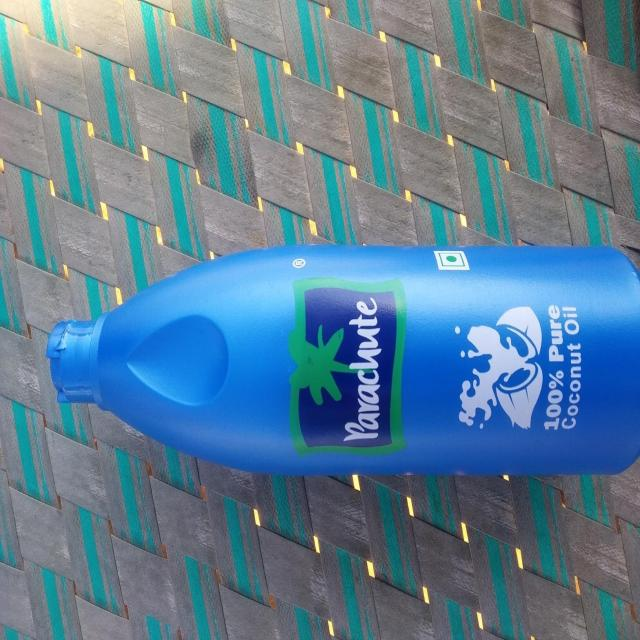parachute_oil: (40, 237, 640, 481)
